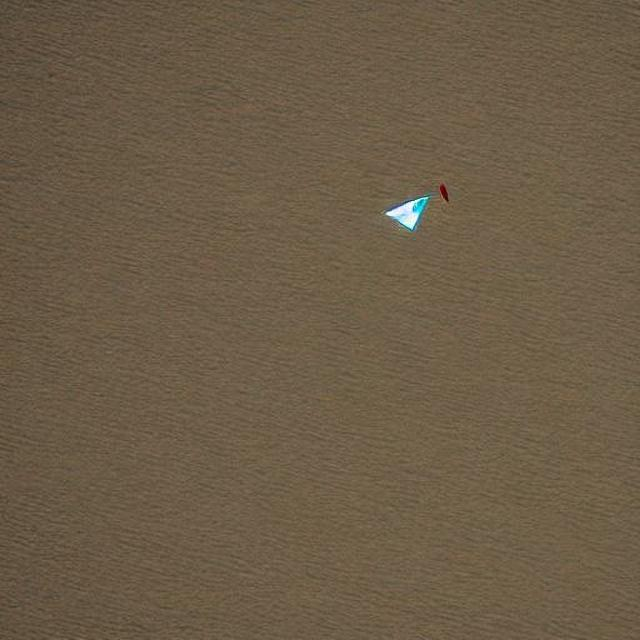floating object: (382, 179, 452, 229), (378, 192, 433, 232), (434, 178, 452, 204)
